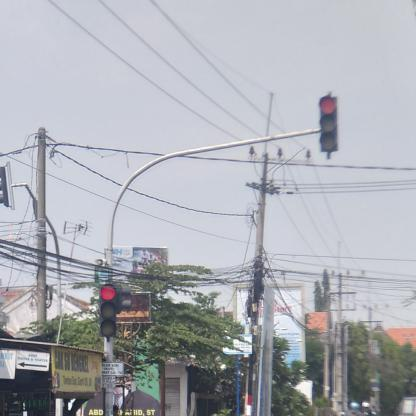red: (317, 96, 339, 152), (99, 284, 118, 338)
